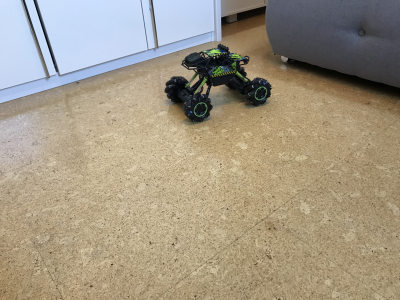remote control car: (162, 41, 274, 123)
